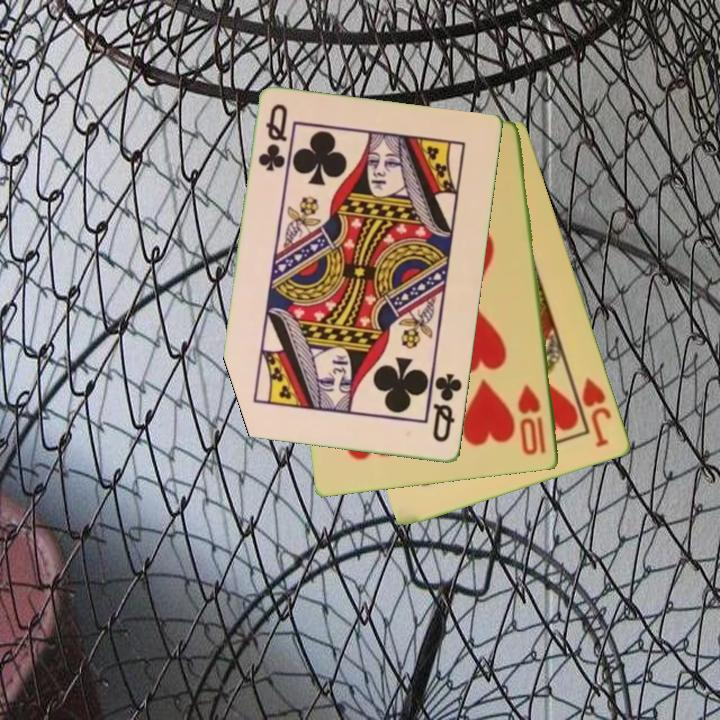10h: (515, 381, 549, 459)
Jh: (569, 373, 615, 451)
Qc: (429, 370, 466, 446), (255, 101, 291, 175)
